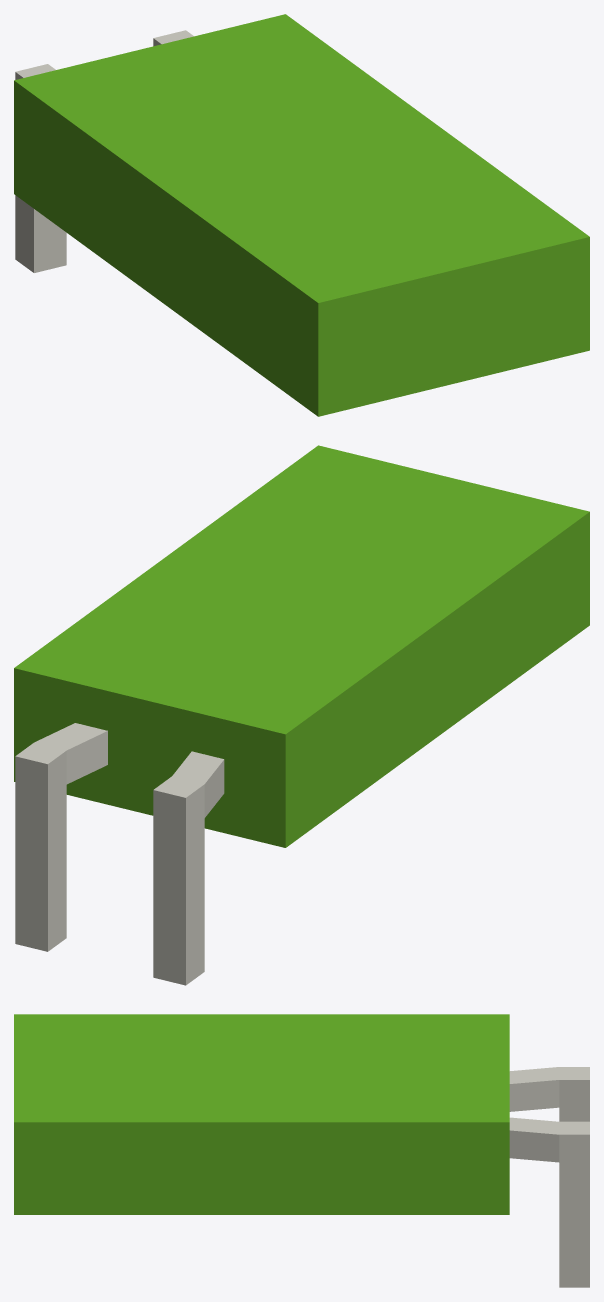
Rendered from kc-led_rectangular_w5.0mm_h2.0mm_horizontal_o1.27mm_z1.0mm.glb.
3 views of the same model, one above another, from view 1: azimuth 30°, elevation 25°; view 2: azimuth 150°, elevation 25°; view 3: azimuth 270°, elevation 25° (orthographic). The views are drawn at different scales.
Visible parts, largest first — view 1: 0.16666666666666666_0.4166666666666667_0_0, 0.6666666666666666_0.6666666666666666_0.5833333333333334_0.8; view 2: 0.16666666666666666_0.4166666666666667_0_0, 0.6666666666666666_0.6666666666666666_0.5833333333333334_0.8; view 3: 0.16666666666666666_0.4166666666666667_0_0, 0.6666666666666666_0.6666666666666666_0.5833333333333334_0.8.
Boxes of the visible parts, x1,y1,x2,y2 form: 0.16666666666666666_0.4166666666666667_0_0: (14, 14, 589, 416); 0.6666666666666666_0.6666666666666666_0.5833333333333334_0.8: (15, 30, 193, 272); 0.16666666666666666_0.4166666666666667_0_0: (14, 445, 589, 847); 0.6666666666666666_0.6666666666666666_0.5833333333333334_0.8: (15, 723, 224, 985); 0.16666666666666666_0.4166666666666667_0_0: (14, 1014, 509, 1214); 0.6666666666666666_0.6666666666666666_0.5833333333333334_0.8: (509, 1067, 589, 1287).
Bounding box in the file's own units: 0.5 × 0.4 × 1.13.
